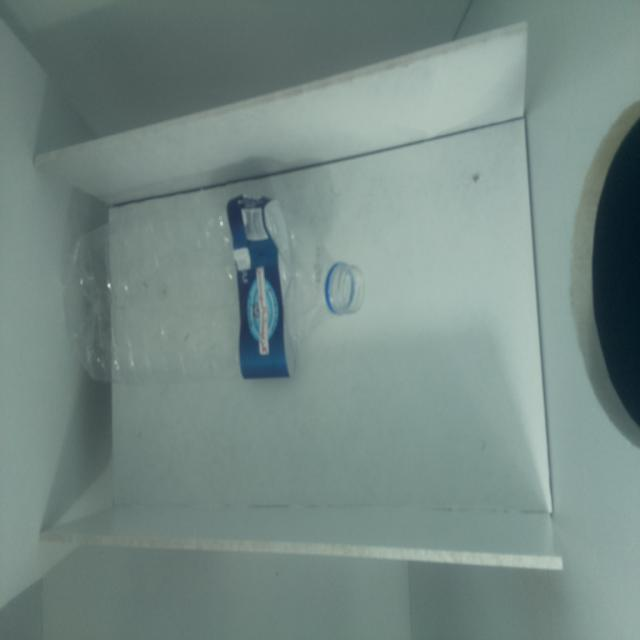Anorganik: (78, 191, 370, 387)
